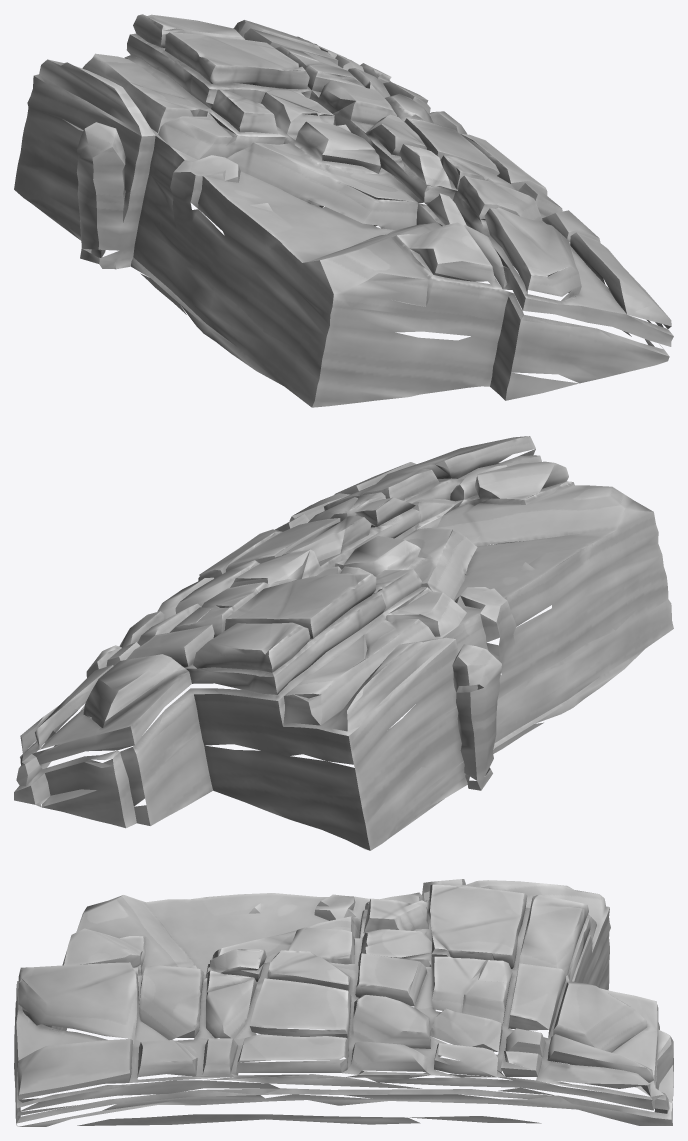
Rendered from sculpted_ledge_02.glb.
3 renders of one model, top to bottom at view 1: azimuth 30°, elevation 25°; view 2: azimuth 150°, elevation 25°; view 3: azimuth 270°, elevation 25°, orthographic. The views are drawn at different scales.
Parts seen in each view (by area): view 1: sculpted_ledge_02; view 2: sculpted_ledge_02; view 3: sculpted_ledge_02.
Boxes of the visible parts, <box> form: sculpted_ledge_02: <box>14,14,673,407</box>; sculpted_ledge_02: <box>14,436,673,850</box>; sculpted_ledge_02: <box>14,879,673,1126</box>.
Size of the model in its own units: 11.75 by 5.62 by 22.1.
1 material, 1 textured.
